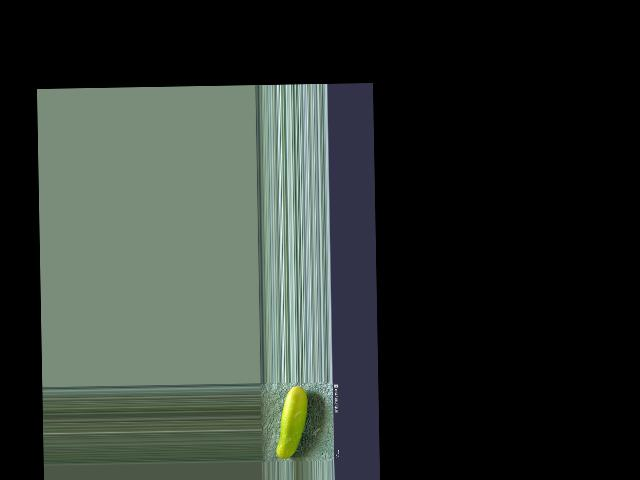cucumber: (275, 386, 308, 459)
